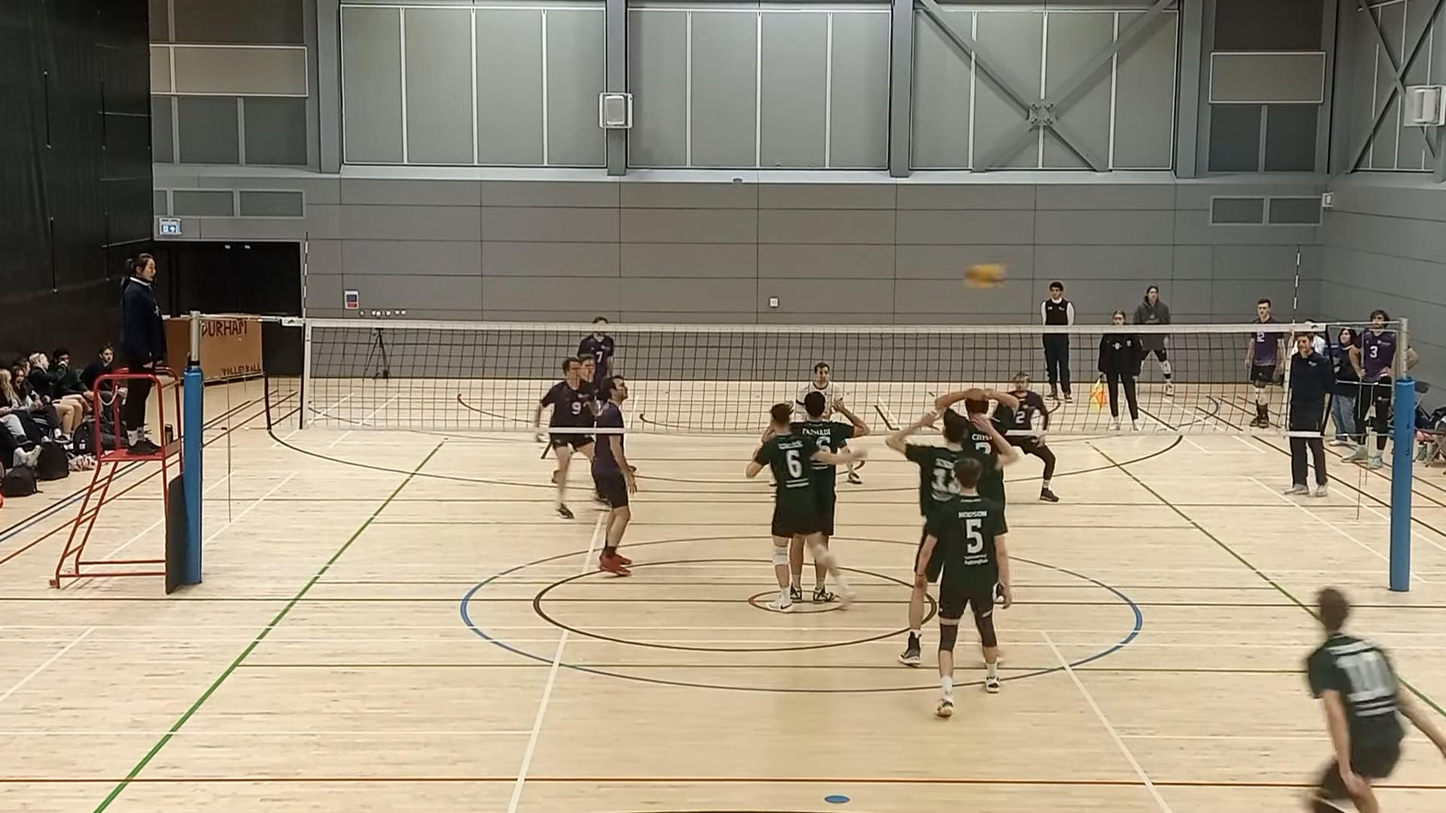Player: (1307, 588, 1445, 812), (914, 457, 1012, 717), (746, 403, 865, 611), (886, 389, 1017, 517), (935, 388, 1020, 504), (592, 376, 636, 575), (1005, 371, 1058, 502), (792, 392, 869, 451), (546, 432, 593, 519), (795, 361, 843, 419), (578, 315, 615, 379), (578, 356, 610, 425), (580, 356, 610, 413)
